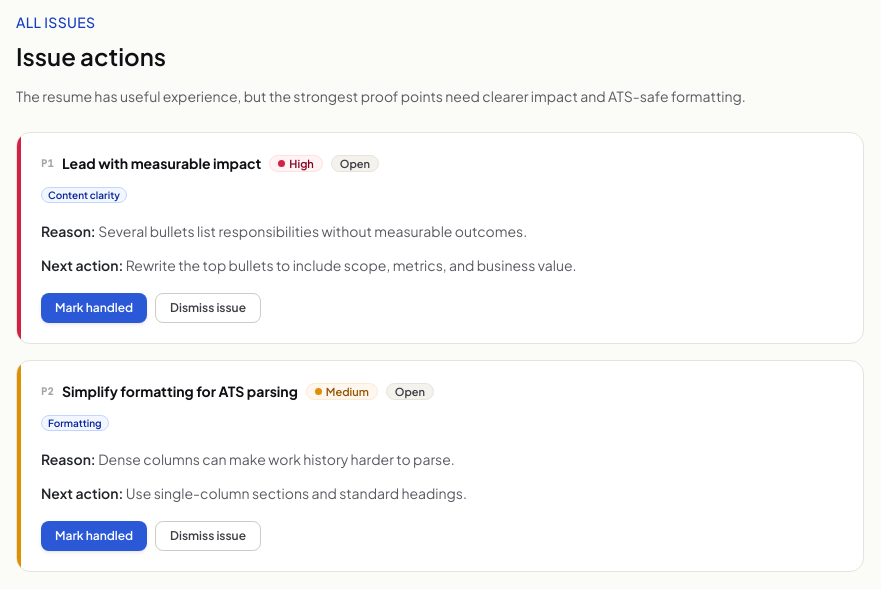
Test case: SuggestionsSection › marks an issue dismissed and keeps the report context visible
This screenshot has width=881, height=589.
Step 1. Click the button "Dismiss issue" below "Simplify formatting for ATS parsing" → (208, 536), box [155,521,261,551]
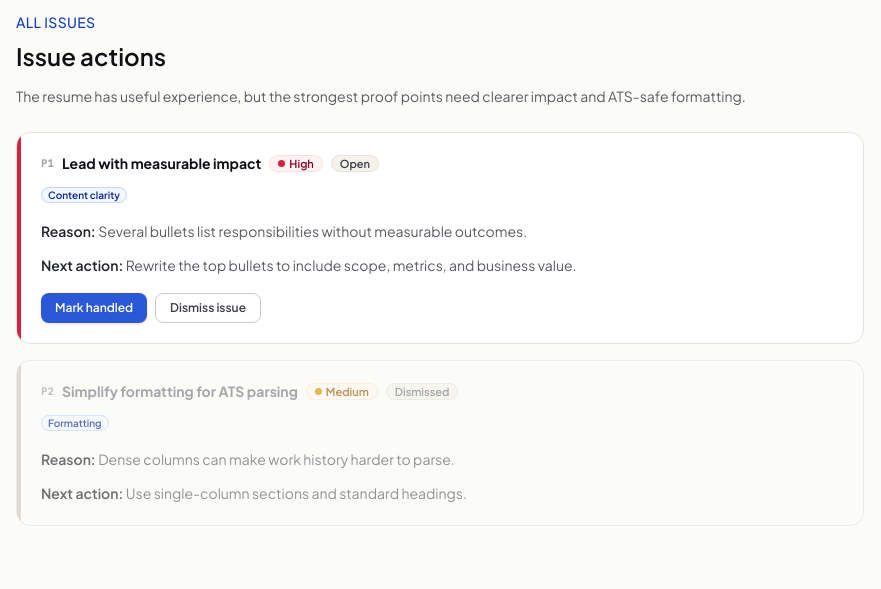
Expected: the text "The resume has useful experience, but the strongest proof points need clearer impact and ATS-safe formatting." is shown, [16,87,746,105]
Expected: the text with test id "issue-status" reads "Dismissed", [395,384,450,398]
